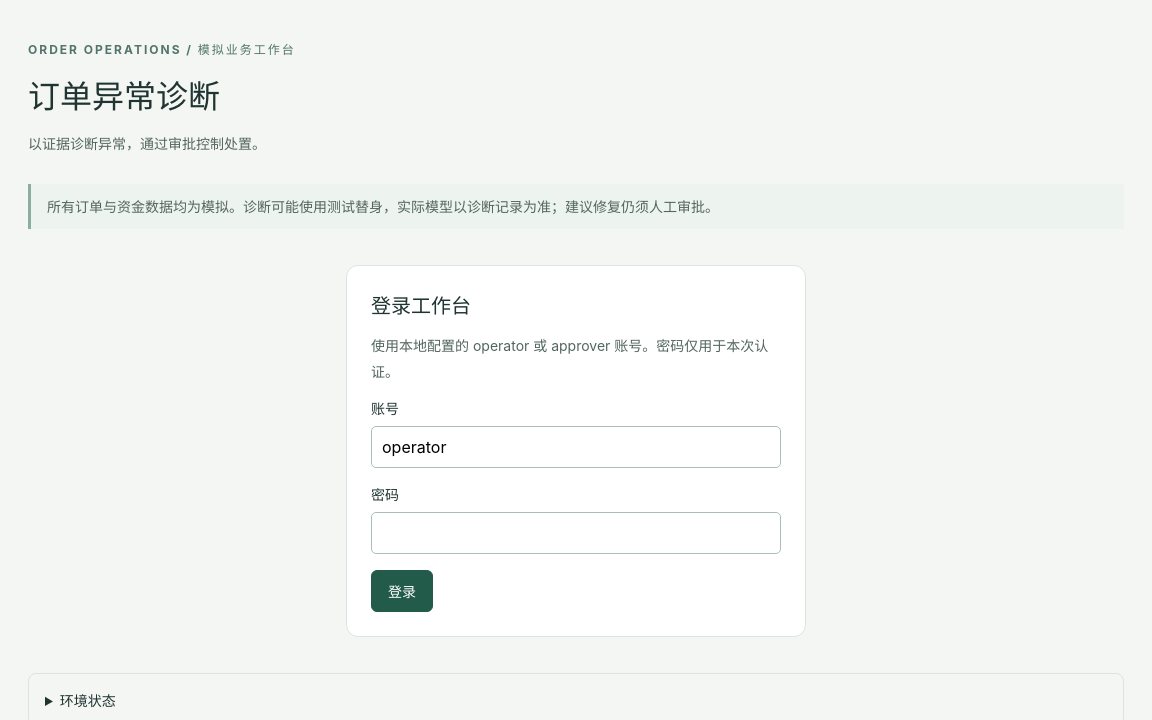
登录仅一次发送凭证，刷新会话读取列表，退出携带 CSRF
Type "test-password-123" into the password field labelled "密码". click: (576, 533)
box: 371,512 -> 781,554
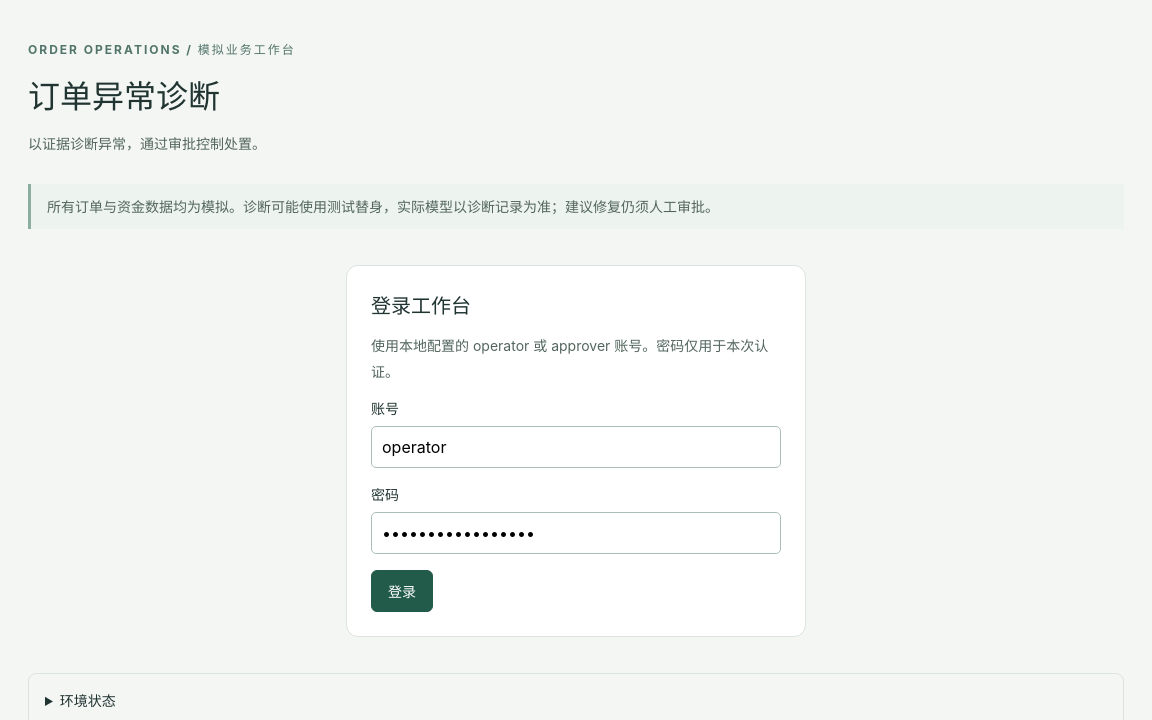
Submit the form, box 371,398 -> 781,612
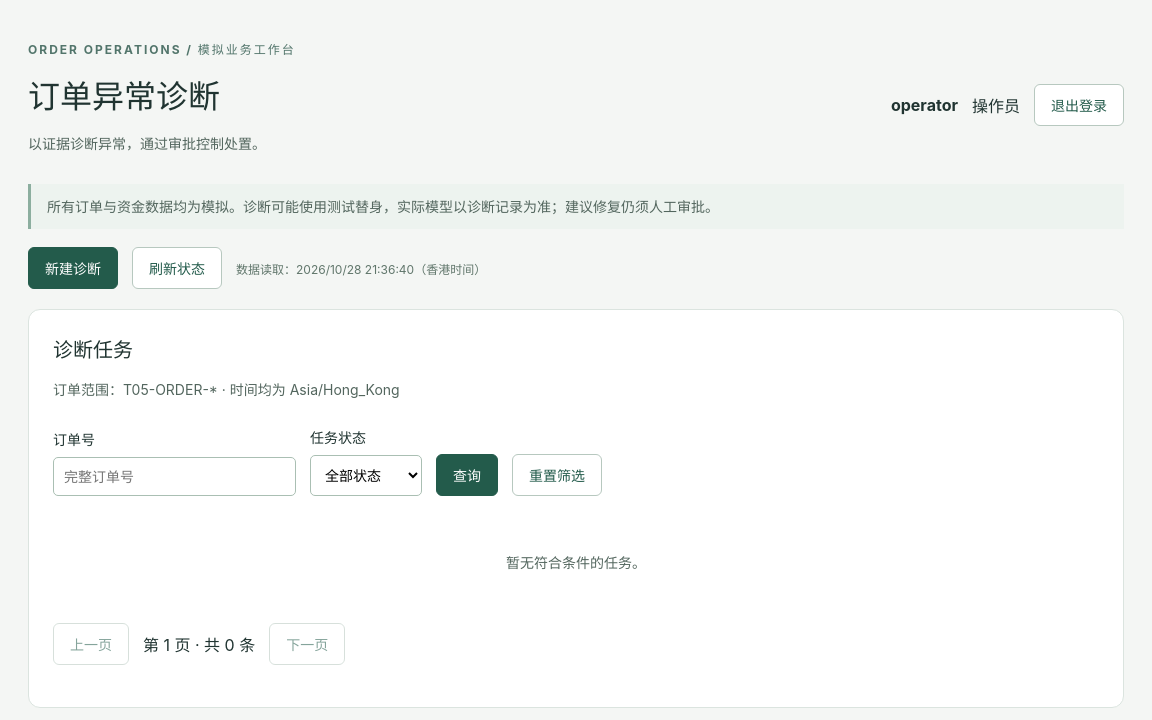
Check: the text "暂无符合条件的任务" is shown, box 506,554 -> 646,571
Click the button "退出登录". click: click(1079, 105)
box: 1034,84 -> 1124,126
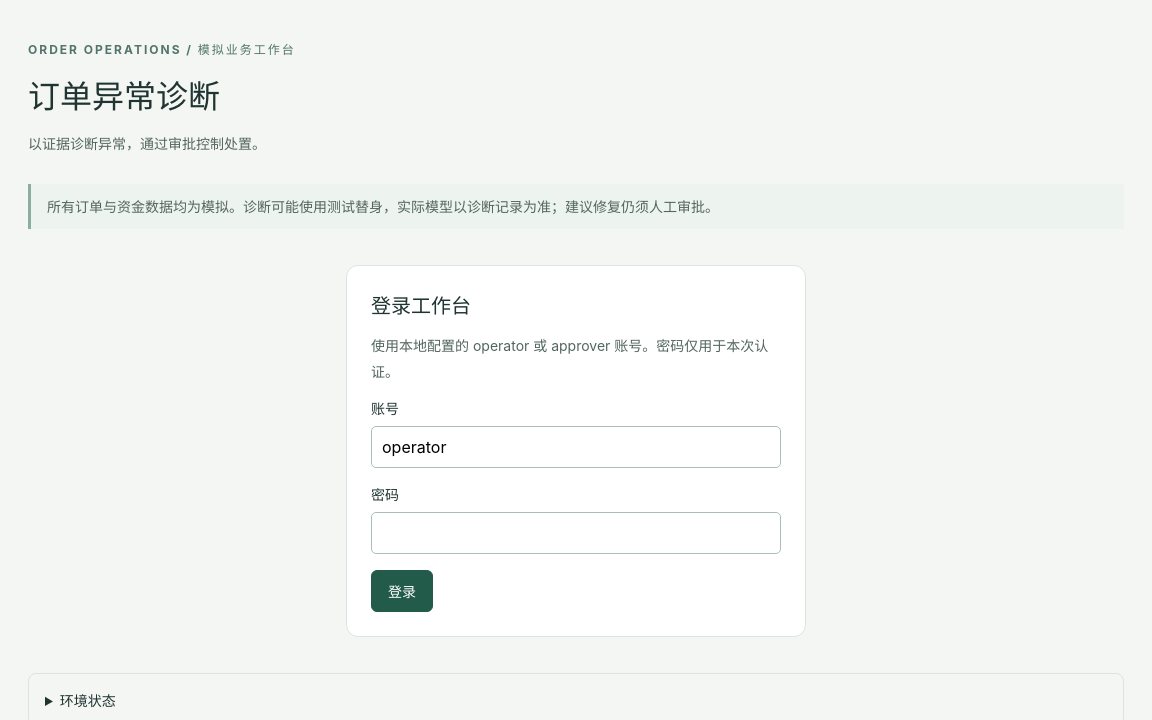
Check: the text "登录工作台" is shown, box 371,294 -> 471,318
